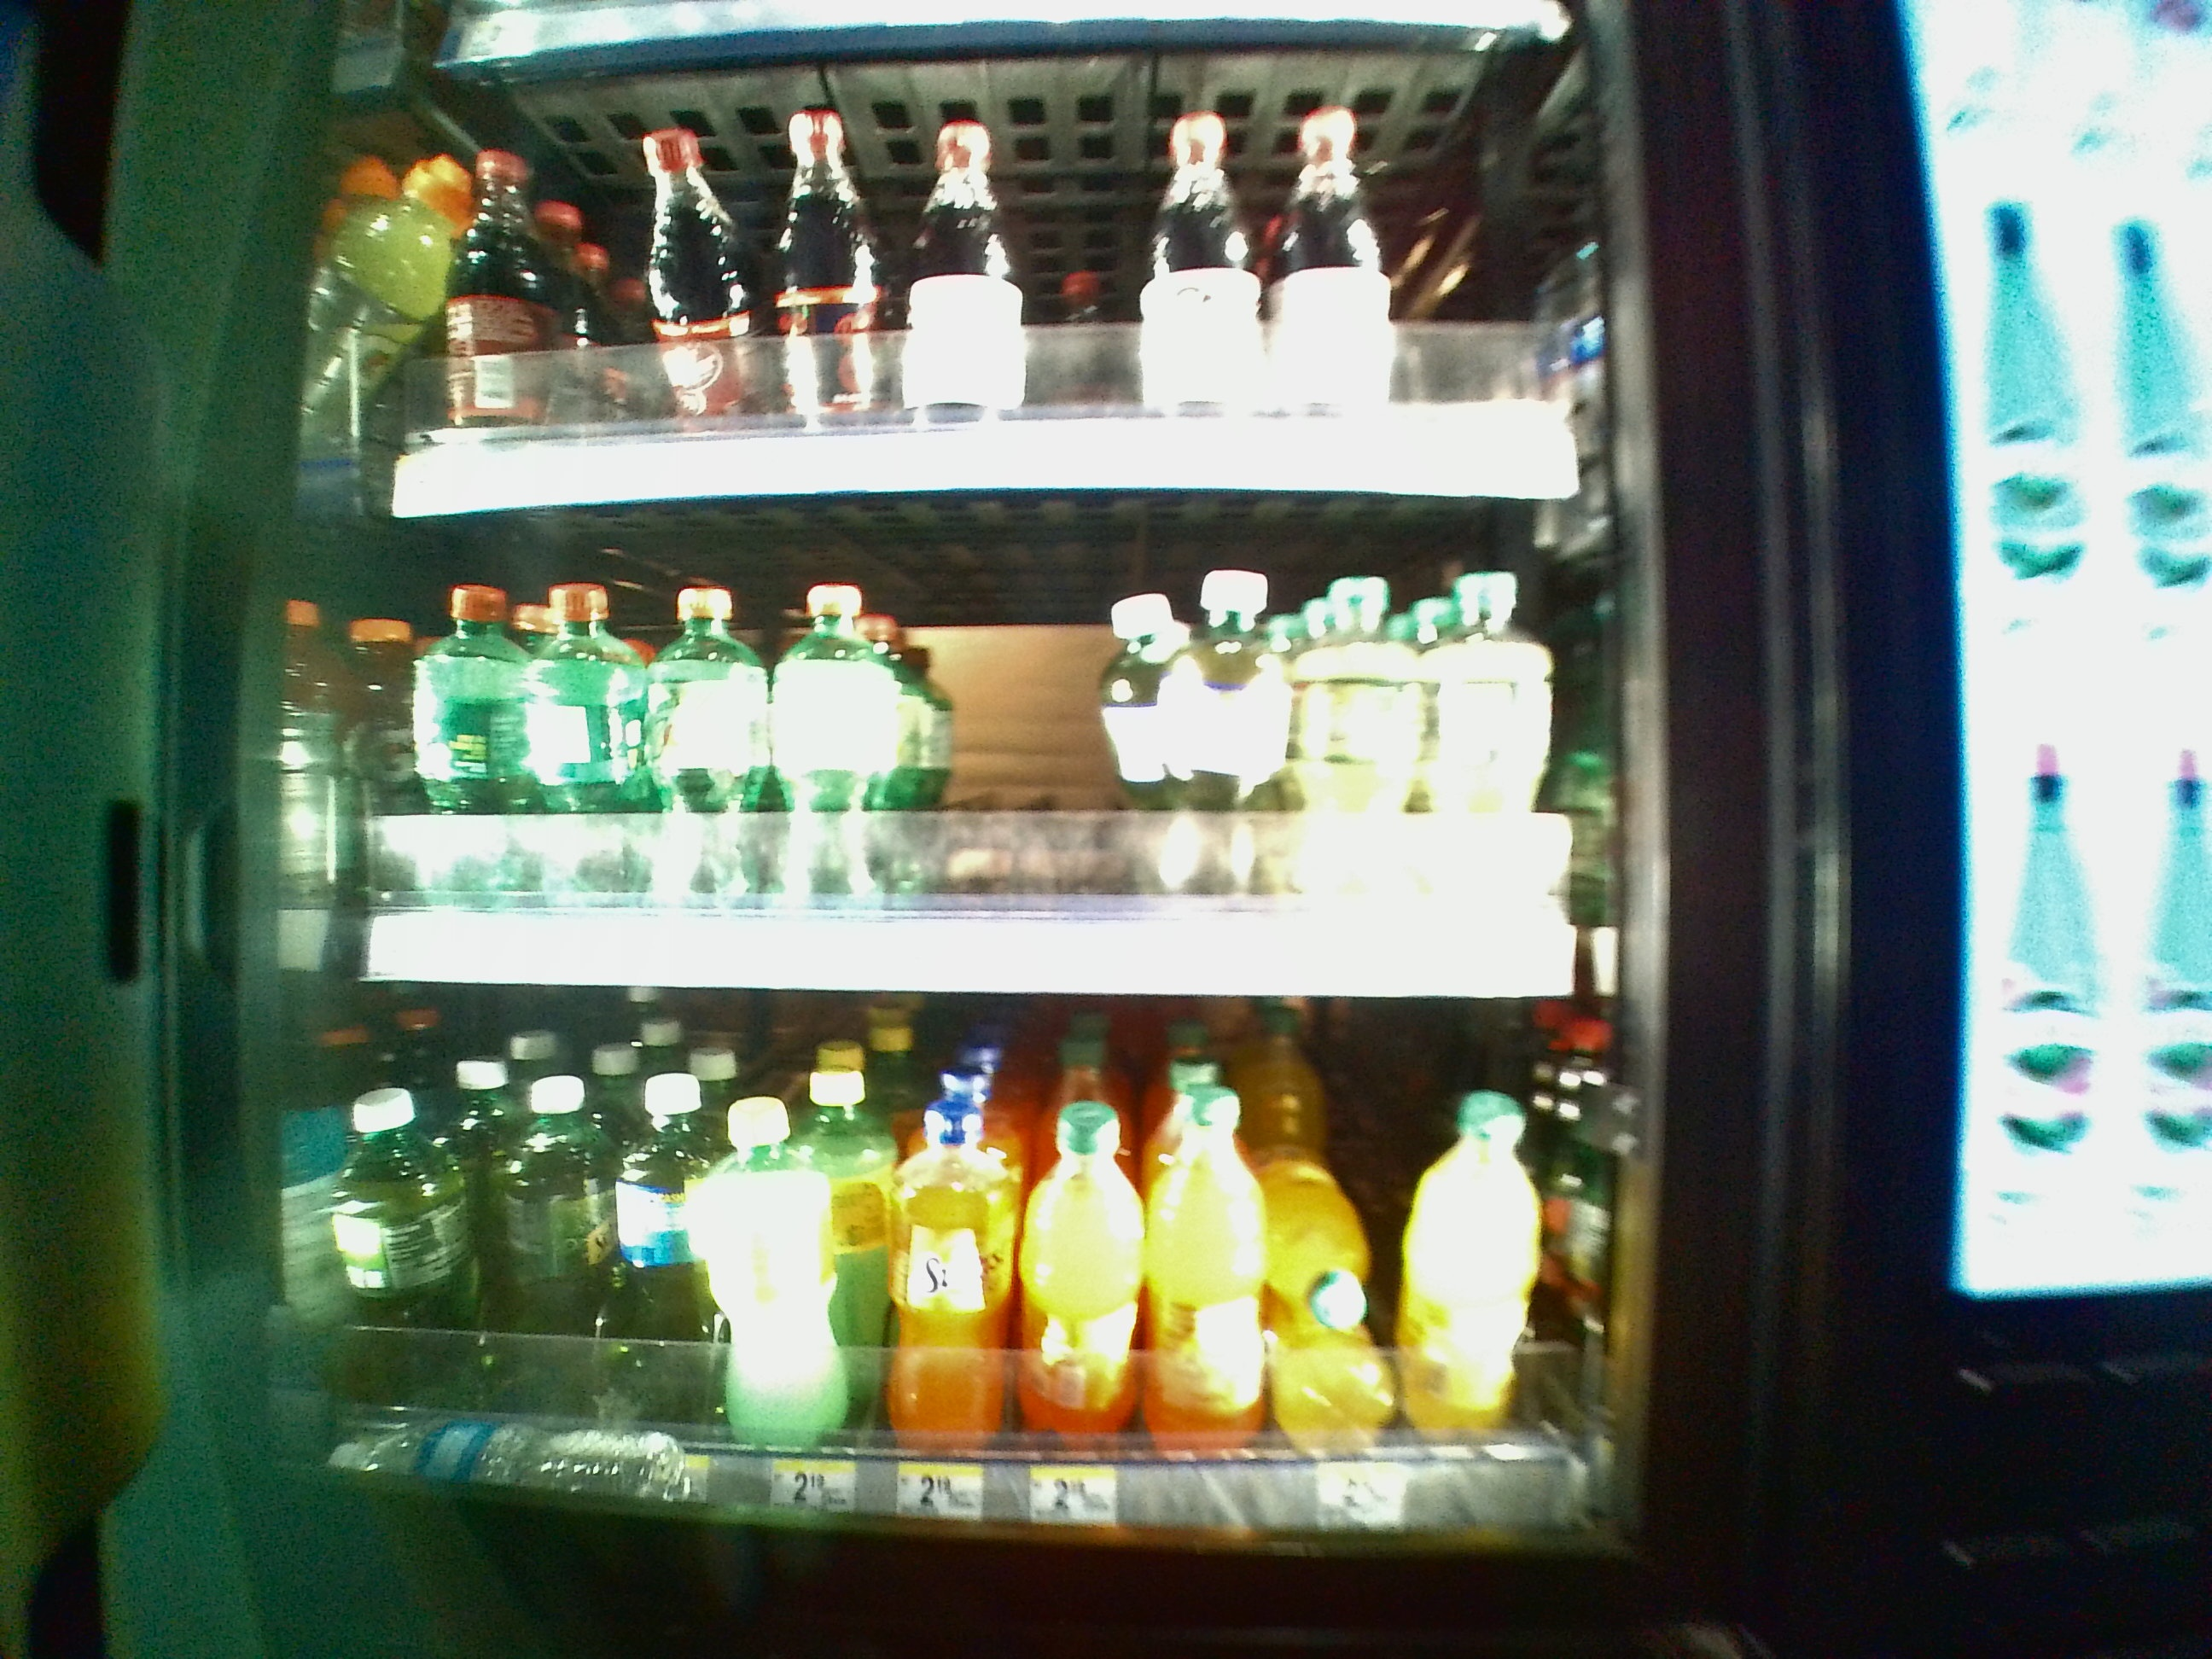Shelf: (348, 997, 1627, 1535), (350, 512, 1618, 997)
